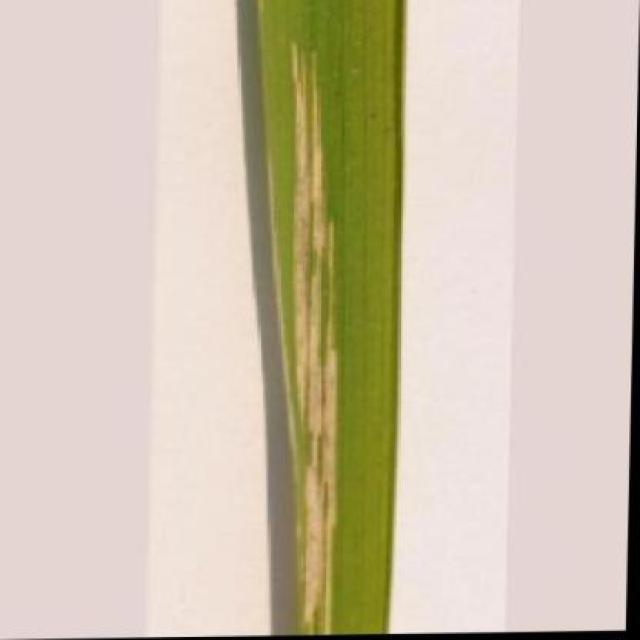Brown_Spot: (245, 0, 412, 637)
